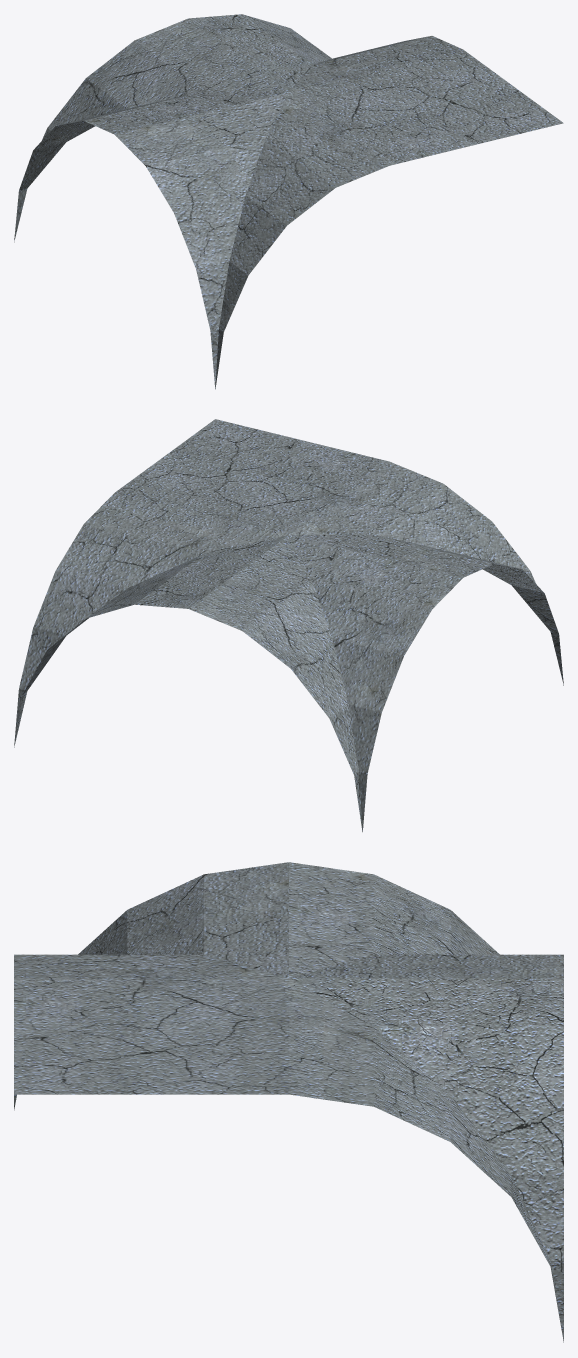
The model's file is ceiling_09.fbx.
3 views of the same model, one above another, from view 1: azimuth 30°, elevation 25°; view 2: azimuth 150°, elevation 25°; view 3: azimuth 270°, elevation 25° (orthographic). The views are drawn at different scales.
Visible parts, largest first — view 1: ceiling_09; view 2: ceiling_09; view 3: ceiling_09.
Boxes of the visible parts, box(x1,y1,x2,y2) form: ceiling_09: box(14, 14, 563, 389); ceiling_09: box(14, 419, 563, 832); ceiling_09: box(14, 862, 563, 1342).
Bounding box in the file's own units: 100 × 50 × 100.
